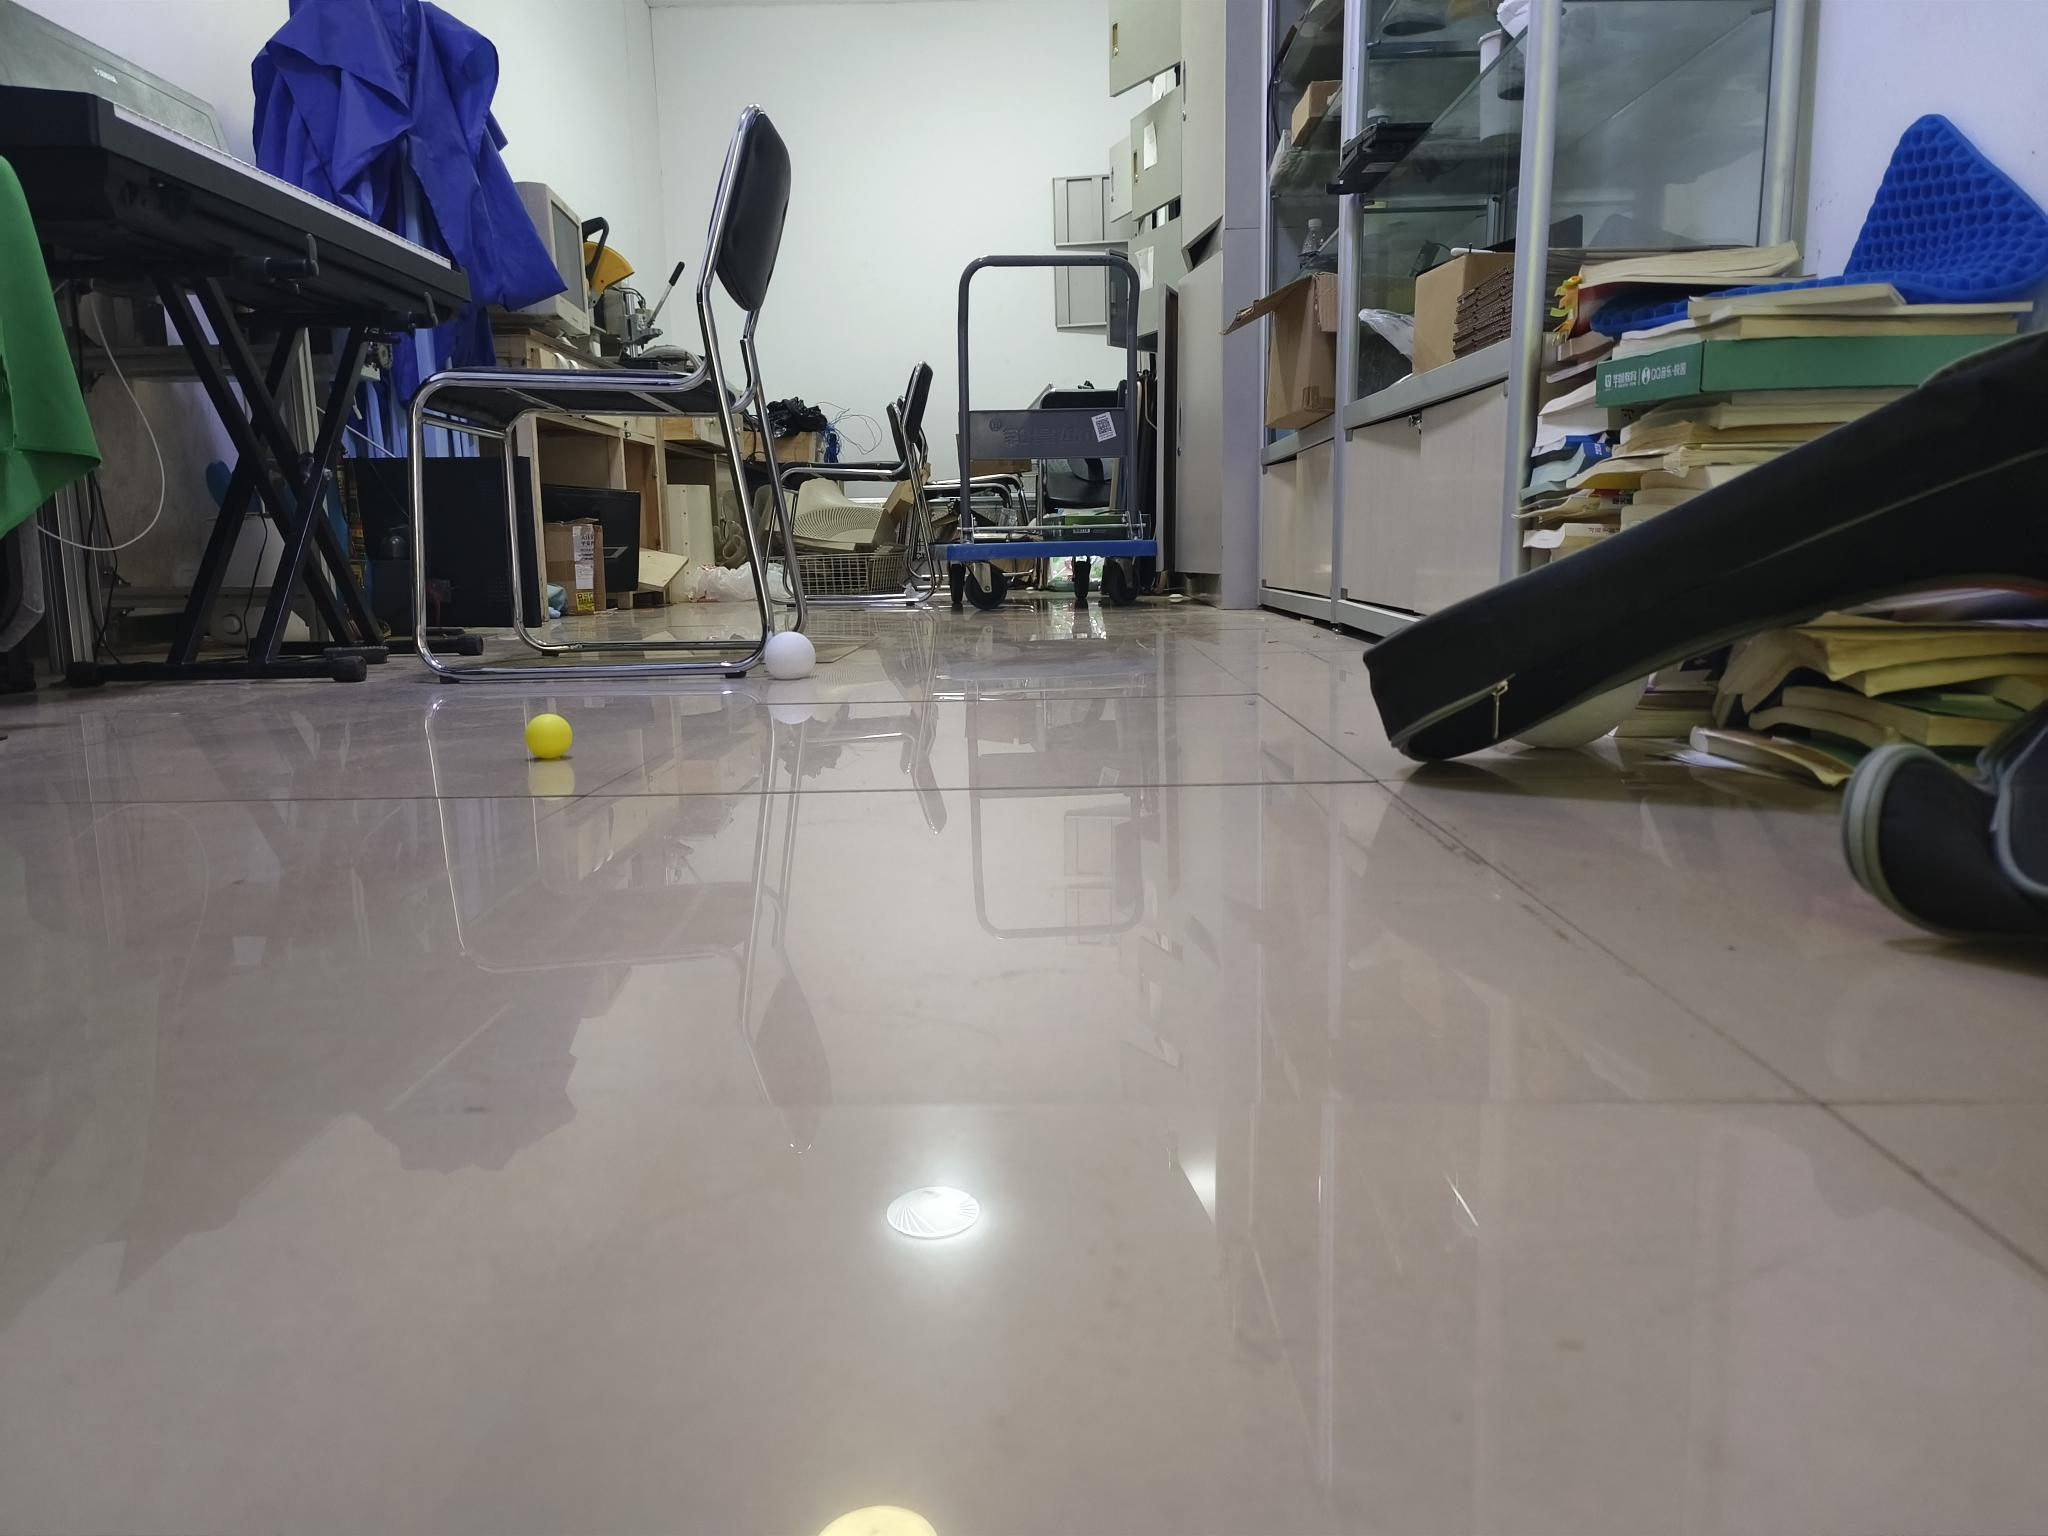ball: (522, 712, 576, 762)
